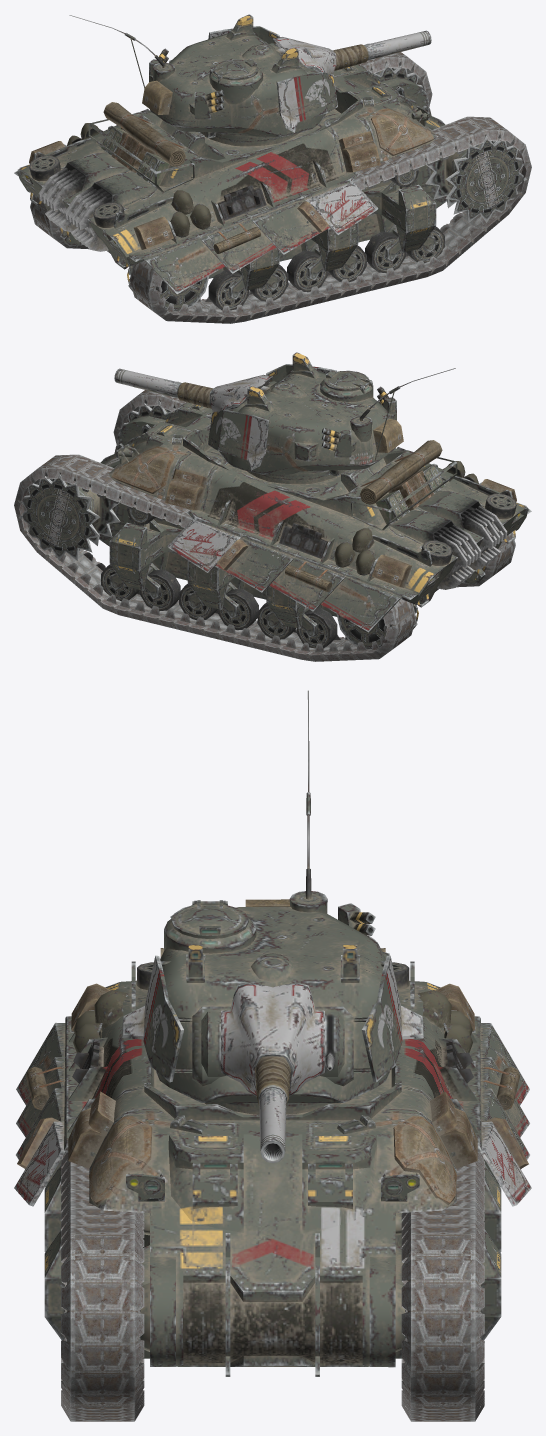
File: hafen.glb
3 renders of one model, top to bottom at view 1: azimuth 30°, elevation 25°; view 2: azimuth 150°, elevation 25°; view 3: azimuth 270°, elevation 25°, orthographic. The views are drawn at different scales.
Visible parts, largest first — view 1: SM_hull_5, SM_hull_nc_7, SM_turret_01_6, SM_chassis_track_R_1, SM_chassis_wheels.001_2, SM_turret_01_nc_8, SM_gun_01_mask_4, SM_chassis_track_L_0, SM_gun_01_3; view 2: SM_hull_5, SM_hull_nc_7, SM_turret_01_6, SM_chassis_track_L_0, SM_chassis_wheels.001_2, SM_turret_01_nc_8, SM_gun_01_mask_4, SM_chassis_track_R_1, SM_gun_01_3; view 3: SM_hull_5, SM_hull_nc_7, SM_turret_01_6, SM_chassis_track_L_0, SM_chassis_track_R_1, SM_gun_01_mask_4, SM_turret_01_nc_8, SM_gun_01_3.
Boxes of the visible parts, x1,y1,x2,y2 form: SM_hull_5: (17, 64, 446, 294); SM_hull_nc_7: (14, 67, 445, 299); SM_turret_01_6: (150, 26, 337, 136); SM_chassis_track_R_1: (129, 116, 531, 323); SM_chassis_wheels.001_2: (159, 62, 526, 310); SM_turret_01_nc_8: (69, 14, 298, 138); SM_gun_01_mask_4: (273, 37, 368, 74); SM_chassis_track_L_0: (30, 43, 432, 249); SM_gun_01_3: (364, 30, 431, 60); SM_hull_5: (99, 402, 528, 632); SM_hull_nc_7: (100, 405, 531, 637); SM_turret_01_6: (208, 364, 395, 474); SM_chassis_track_L_0: (14, 454, 416, 661); SM_chassis_wheels.001_2: (19, 400, 385, 648); SM_turret_01_nc_8: (206, 352, 455, 476); SM_gun_01_mask_4: (177, 374, 272, 412); SM_chassis_track_R_1: (113, 381, 515, 587); SM_gun_01_3: (114, 368, 181, 398); SM_hull_5: (14, 980, 531, 1367); SM_hull_nc_7: (17, 948, 528, 1376); SM_turret_01_6: (122, 891, 423, 1102); SM_chassis_track_L_0: (401, 1152, 484, 1421); SM_chassis_track_R_1: (61, 1152, 144, 1421); SM_gun_01_mask_4: (221, 983, 324, 1105); SM_turret_01_nc_8: (161, 690, 384, 1072); SM_gun_01_3: (259, 1087, 286, 1163).
Size of the model in its own units: 5.84 by 3.8 by 3.7.
2 materials, 2 textured.
